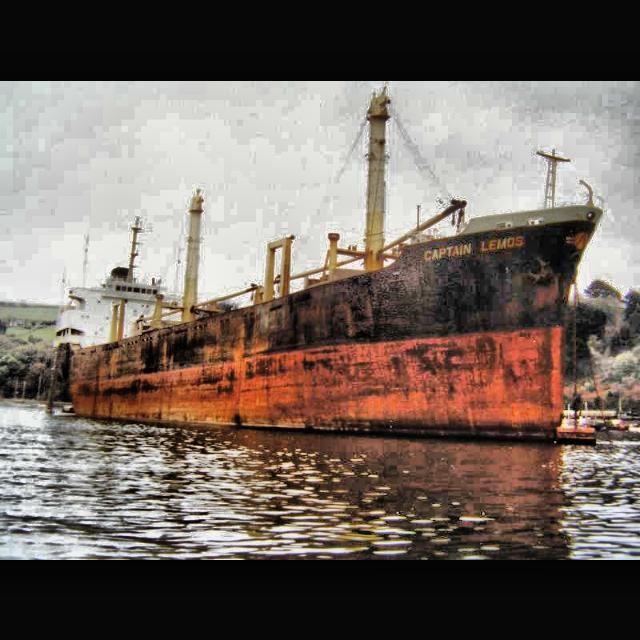bulk_carrier: (53, 89, 605, 439)
